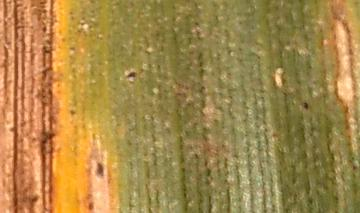tarspot: (95, 162, 104, 177), (126, 71, 139, 80), (301, 99, 310, 111), (69, 111, 77, 116)
